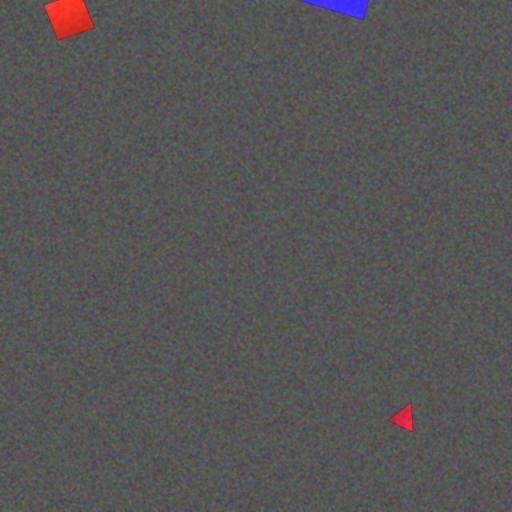RED_SQUARE: (43, 0, 95, 41)
